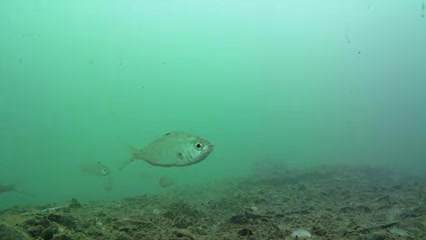smallfish: (120, 125, 219, 175), (72, 155, 114, 184)
